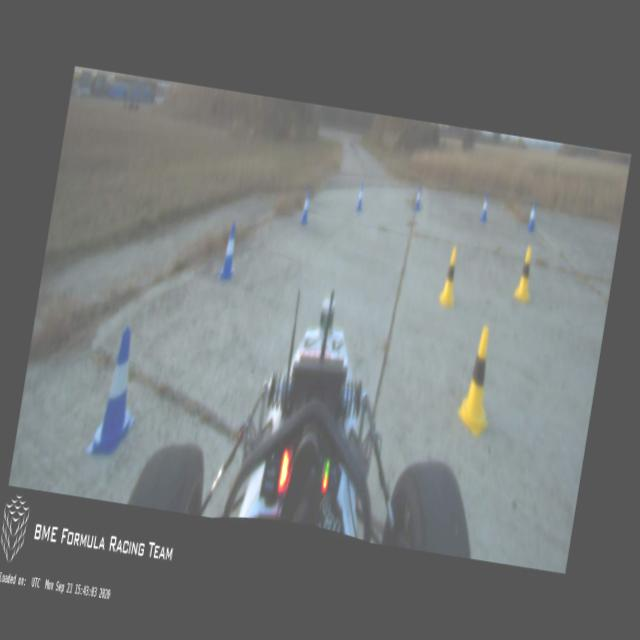blue_cone: (80, 323, 148, 463), (217, 222, 240, 282), (298, 188, 314, 226), (479, 192, 492, 224), (526, 206, 538, 233), (413, 183, 424, 211), (356, 182, 366, 212)
yellow_cone: (455, 326, 503, 436), (438, 245, 464, 307), (514, 244, 538, 298)
